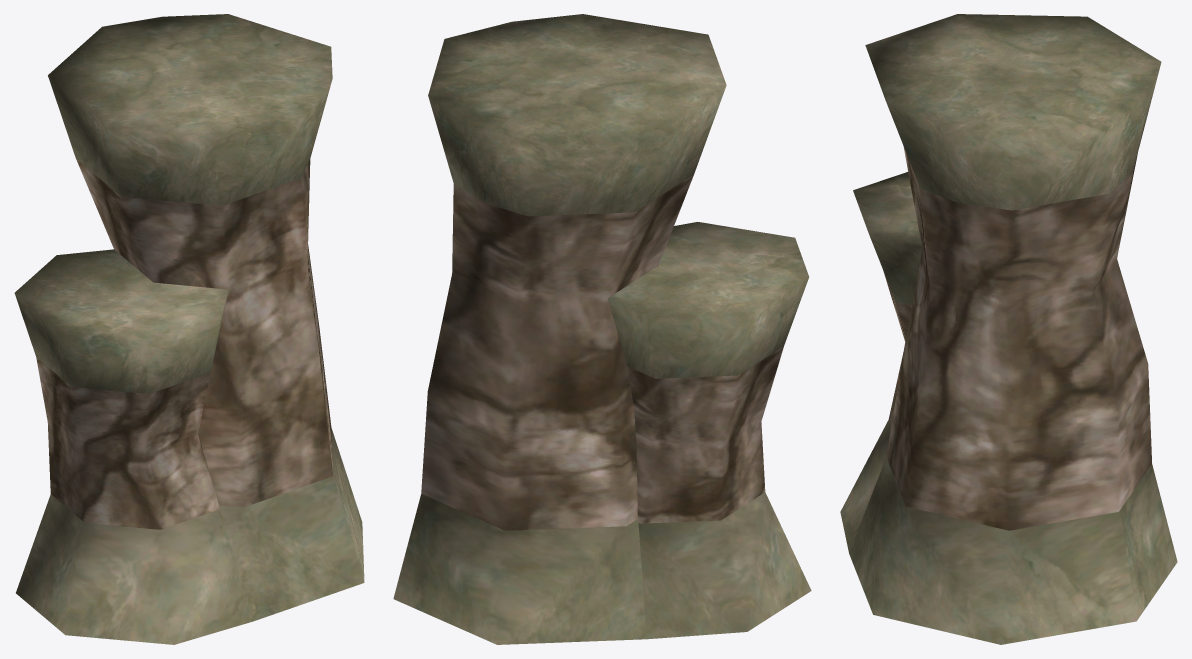
The model's file is EKH_CAVERNS_PS_CA_PLAT_847463__GX.fbx.
3 views of the same model, side by side, from view 1: azimuth 30°, elevation 25°; view 2: azimuth 150°, elevation 25°; view 3: azimuth 270°, elevation 25° (orthographic). The views are drawn at different scales.
Visible parts, largest first — view 1: EKH_CAVERNS_PS_CA_PLAT_847463__GX; view 2: EKH_CAVERNS_PS_CA_PLAT_847463__GX; view 3: EKH_CAVERNS_PS_CA_PLAT_847463__GX.
Boxes of the visible parts, bbox=[...] form: EKH_CAVERNS_PS_CA_PLAT_847463__GX: bbox=[14, 14, 364, 644]; EKH_CAVERNS_PS_CA_PLAT_847463__GX: bbox=[393, 14, 811, 644]; EKH_CAVERNS_PS_CA_PLAT_847463__GX: bbox=[840, 14, 1177, 644].
Bounding box in the file's own units: 44069 × 60223 × 37054.
Materials: 2 (2 with a texture image).
